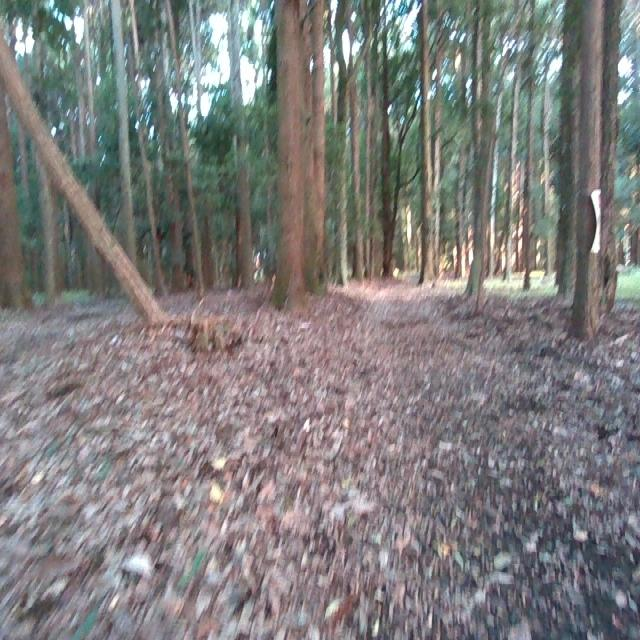tree: (0, 12, 184, 330), (557, 0, 621, 323), (271, 0, 331, 314), (163, 0, 214, 291), (221, 0, 260, 290), (461, 0, 497, 307), (348, 0, 384, 283), (102, 0, 138, 275), (0, 0, 32, 309), (415, 0, 447, 295), (328, 0, 354, 299), (521, 0, 536, 290)
